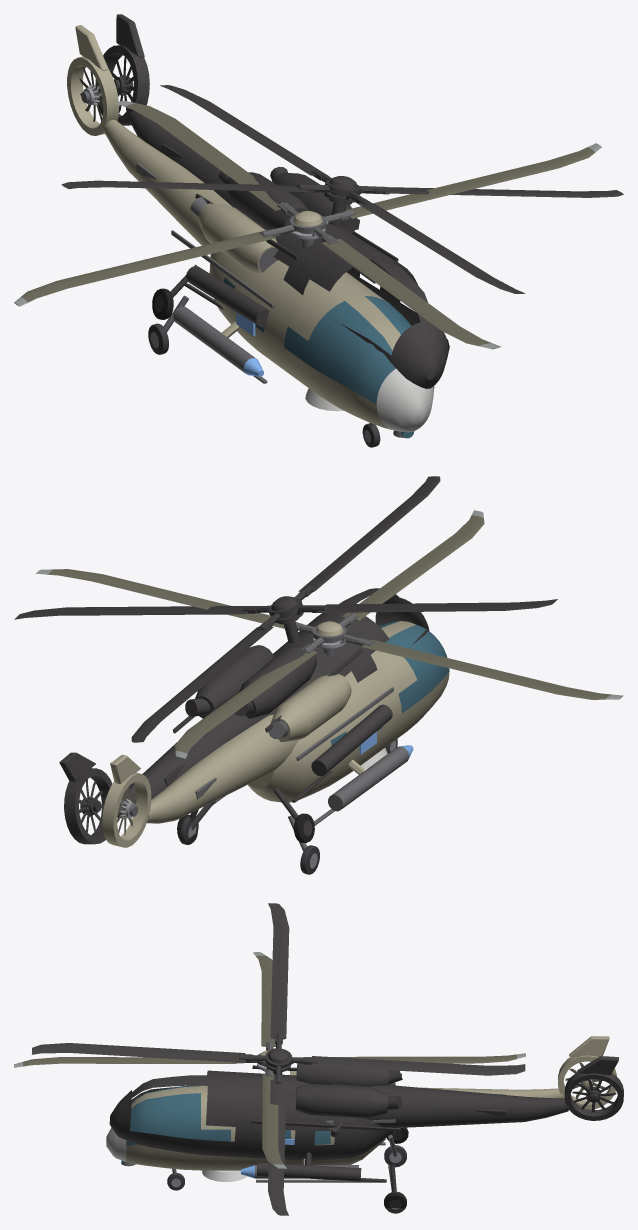
Rendered from navalHelicopter__as565_panther.glb.
3 views of the same model, one above another, from view 1: azimuth 30°, elevation 25°; view 2: azimuth 150°, elevation 25°; view 3: azimuth 270°, elevation 25° (orthographic). The views are drawn at different scales.
Visible parts, largest first — view 1: Wreck, Fuselage_Mesh, Rotor_Main_Mesh, Engines_Mesh, Fenestron_Mesh, Naval_Mission_Kit_Mesh, Landing_Gear_Mesh, Rotor_Tail_Mesh; view 2: Wreck, Fuselage_Mesh, Rotor_Main_Mesh, Engines_Mesh, Fenestron_Mesh, Naval_Mission_Kit_Mesh, Landing_Gear_Mesh; view 3: Wreck, Fuselage_Mesh, Rotor_Main_Mesh, Fenestron_Mesh, Landing_Gear_Mesh, Radar_Mesh.
Boxes of the visible parts, x1,y1,x2,y2 form: Wreck: (61,14,623,388); Fuselage_Mesh: (103,119,434,438); Rotor_Main_Mesh: (14,100,601,349); Engines_Mesh: (190,197,278,273); Fenestron_Mesh: (67,25,118,135); Naval_Mission_Kit_Mesh: (173,306,263,376); Landing_Gear_Mesh: (148,295,380,447); Rotor_Tail_Mesh: (79,68,103,121); Wreck: (14,476,557,844); Fuselage_Mesh: (147,621,449,825); Rotor_Main_Mesh: (36,510,623,758); Engines_Mesh: (268,674,351,741); Fenestron_Mesh: (102,754,151,847); Naval_Mission_Kit_Mesh: (328,745,413,811); Landing_Gear_Mesh: (179,739,397,874); Wreck: (31,903,623,1215); Fuselage_Mesh: (106,1082,562,1182); Rotor_Main_Mesh: (14,952,525,1168); Fenestron_Mesh: (558,1036,616,1109); Landing_Gear_Mesh: (167,1134,406,1213); Radar_Mesh: (202,1170,246,1181).
Size of what is drawn, in the model's own units: 12.37 by 5.14 by 14.23.
